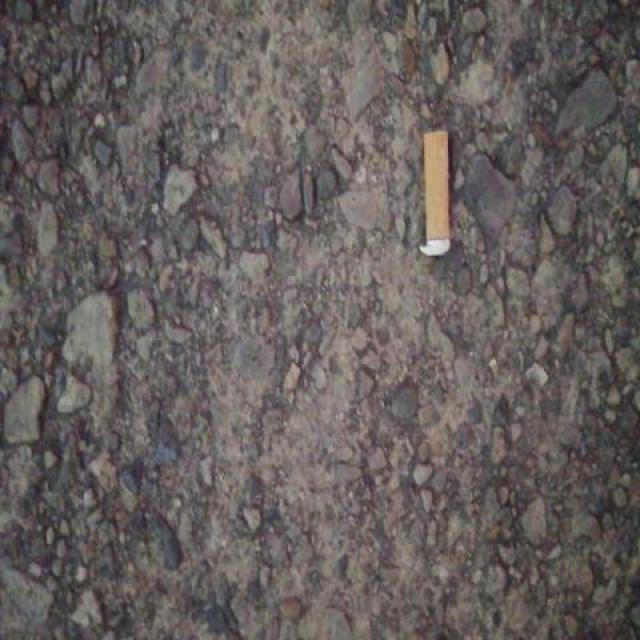non-organic waste: (416, 126, 456, 262)
